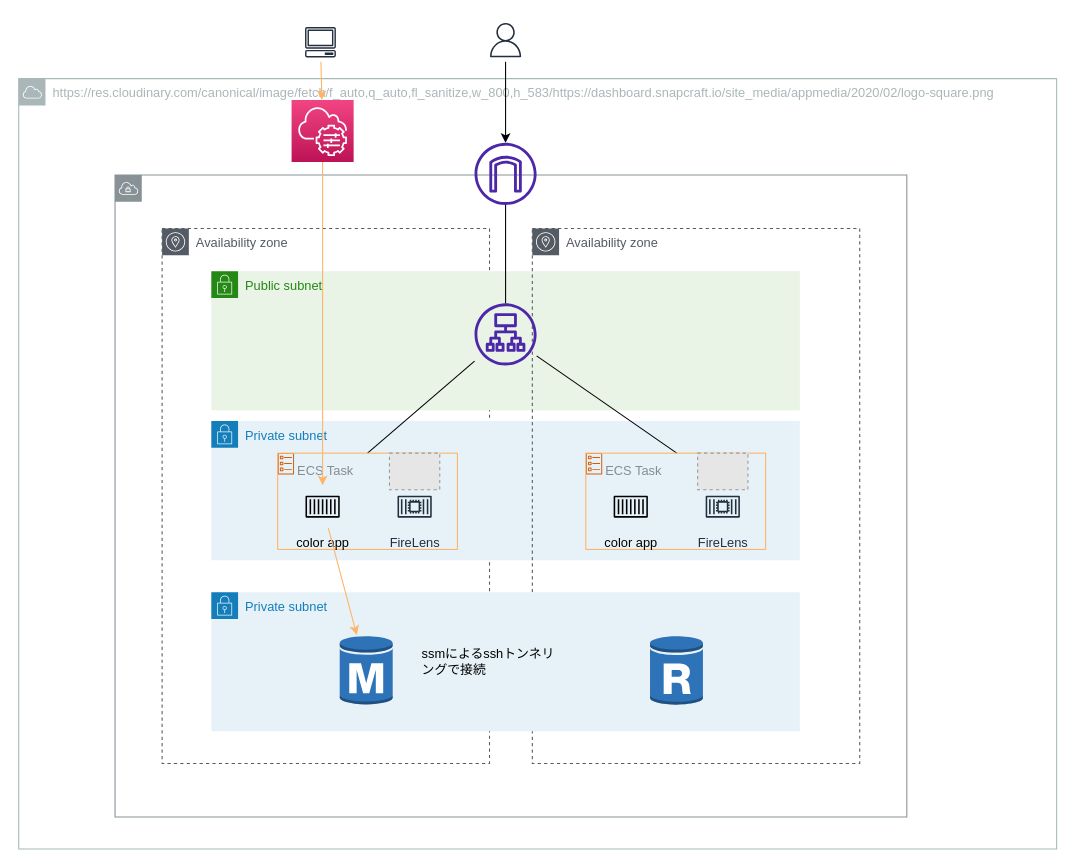
This 1075x868 diagram has some shape labels left out. Grey dashed boxes stand in for pictures. Each missing label, with the box of its shape:
Developer: (300, 22, 340, 62)
User: (483, 18, 527, 62)
VPC: (114, 174, 907, 817)
